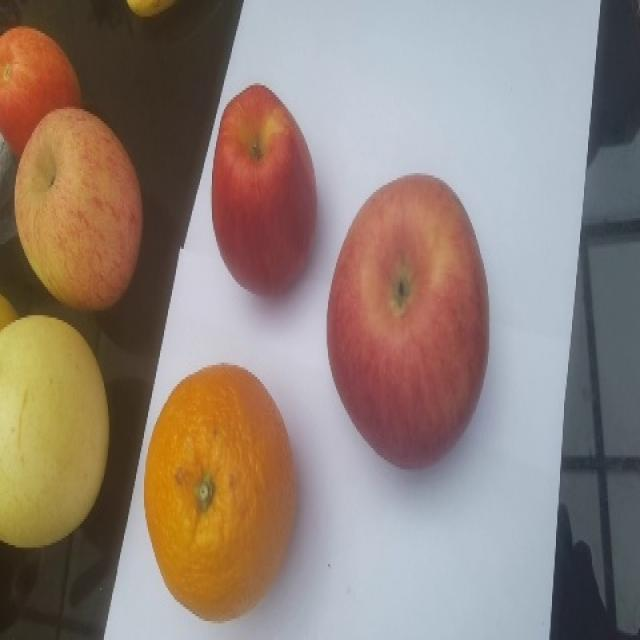Apple: (324, 174, 497, 473), (12, 109, 150, 316), (207, 83, 321, 293), (0, 26, 89, 157)
Orange: (143, 359, 297, 626)
